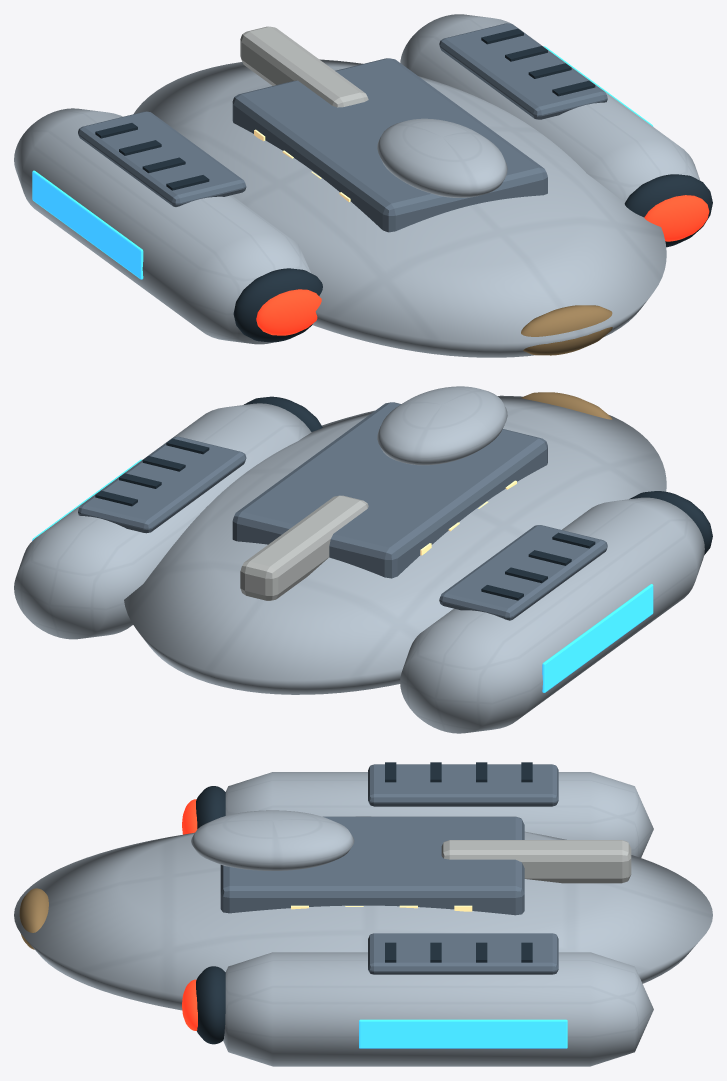
The model's file is Escort_Runtime_LOD0.glb.
3 views of the same model, one above another, from view 1: azimuth 30°, elevation 25°; view 2: azimuth 150°, elevation 25°; view 3: azimuth 270°, elevation 25° (orthographic). The views are drawn at different scales.
Visible parts, largest first — view 1: Escort_LOD0; view 2: Escort_LOD0; view 3: Escort_LOD0.
Part boxes in pixels (x1,y1,x2,y2): Escort_LOD0: (14, 14, 712, 357); Escort_LOD0: (14, 386, 712, 733); Escort_LOD0: (14, 762, 712, 1066).
Size of the model in its own units: 138 by 39.74 by 170.
Materials: 1 (1 with a texture image).
